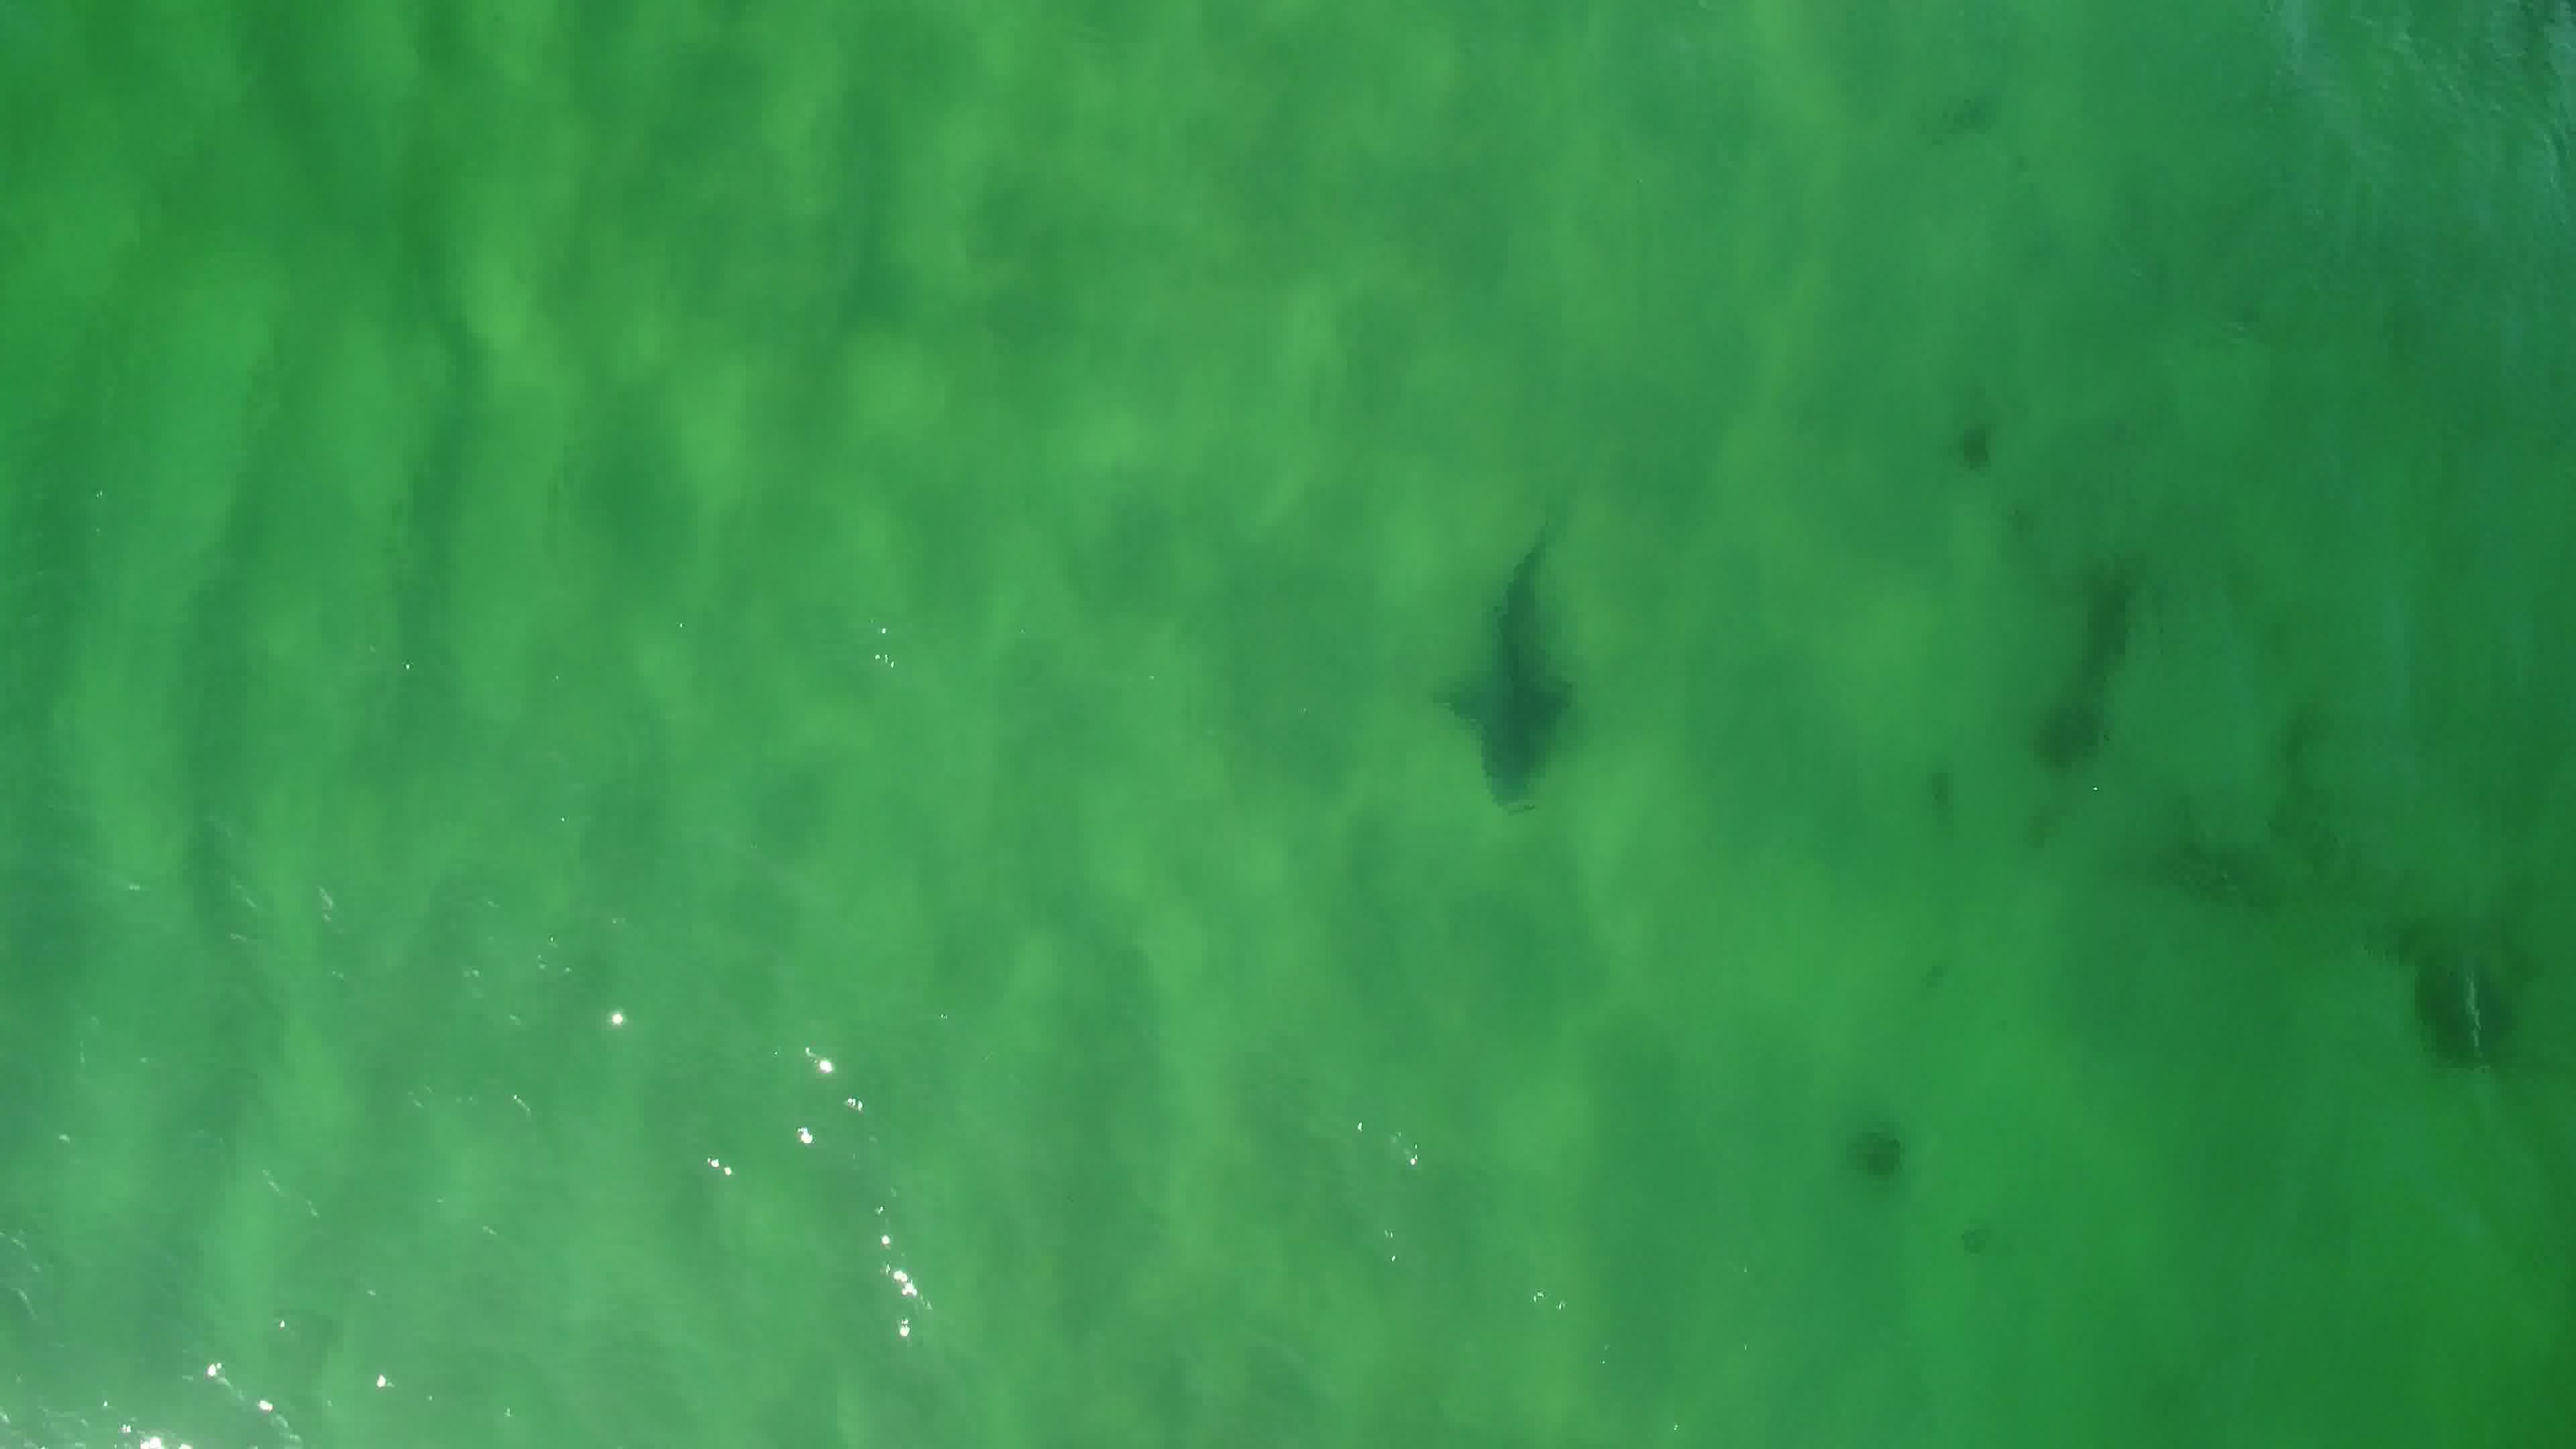shark: (1430, 499, 1589, 816)
